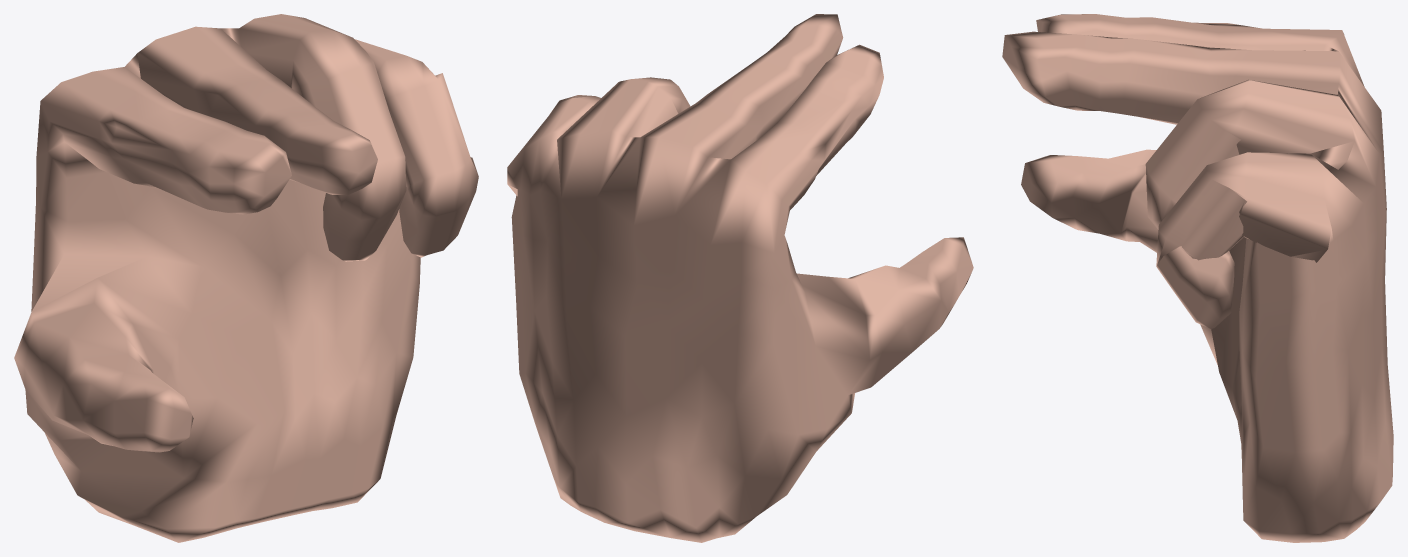
Rendered from MAO_PATO_ABERTA.obj.
The picture shows the model from 3 angles, left to right: view 1: azimuth 30°, elevation 25°; view 2: azimuth 150°, elevation 25°; view 3: azimuth 270°, elevation 25°; orthographic projection. The views are drawn at different scales.
Visible parts, largest first — view 1: mao_dir polySurface1; view 2: mao_dir polySurface1; view 3: mao_dir polySurface1.
Part boxes in pixels (x1,y1,x2,y2): mao_dir polySurface1: (14,14,478,542); mao_dir polySurface1: (507,14,973,542); mao_dir polySurface1: (1002,14,1393,542).
Size of the model in its own units: 142 by 154 by 124.
